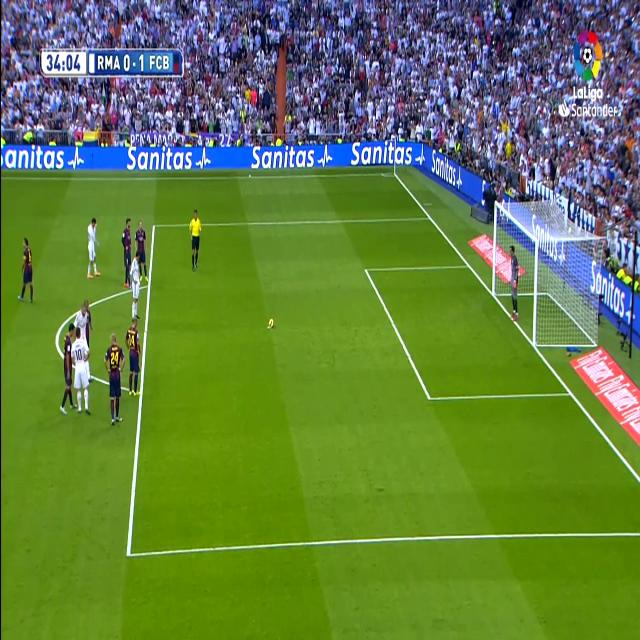bigarea_bottom_inner: (423, 382, 435, 412)
bigarea_top_outter: (426, 210, 433, 224)
corner: (390, 169, 398, 179)
smallarea_bottom_outter: (565, 380, 575, 404)
smallarea_top_outter: (464, 255, 472, 274)
